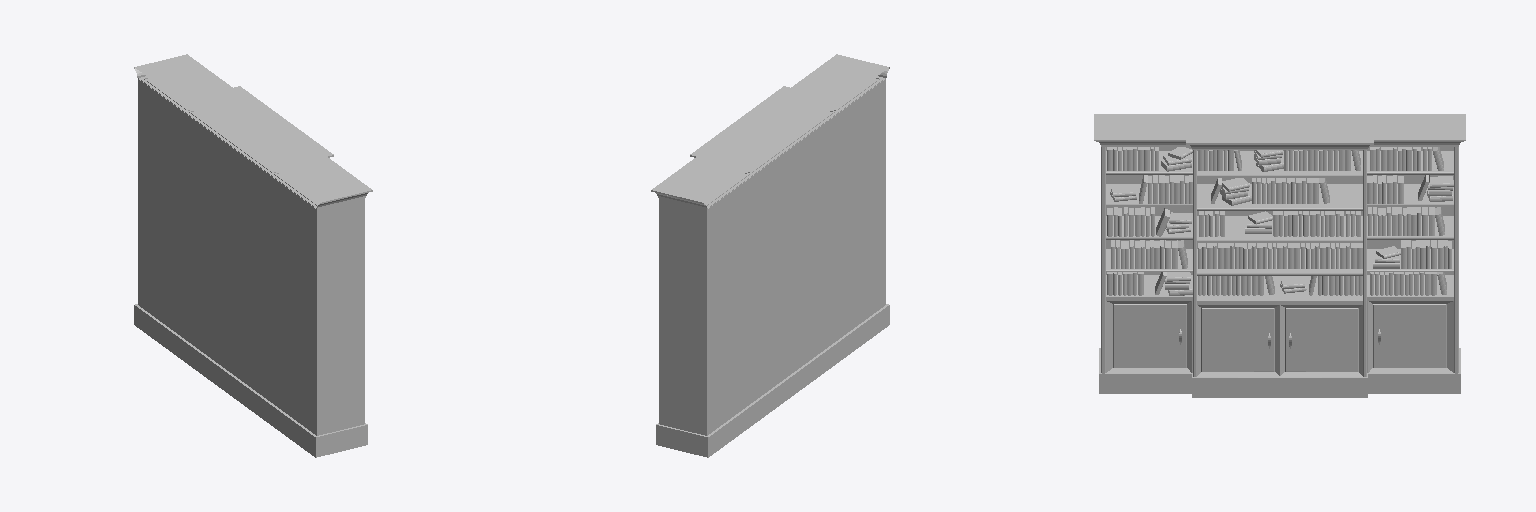
The model's file is victorian_bookshelf.obj.
3 renders of one model, left to right at view 1: azimuth 30°, elevation 25°; view 2: azimuth 150°, elevation 25°; view 3: azimuth 270°, elevation 25°, orthographic.
Visible parts, largest first — view 1: pCube286; view 2: pCube286; view 3: pCube286.
Part boxes in pixels (bbox=[...]): pCube286: bbox=[134, 54, 372, 457]; pCube286: bbox=[651, 54, 889, 457]; pCube286: bbox=[1094, 114, 1465, 397].
Size of the model in its own units: 0.5817 by 2.29 by 3.01.